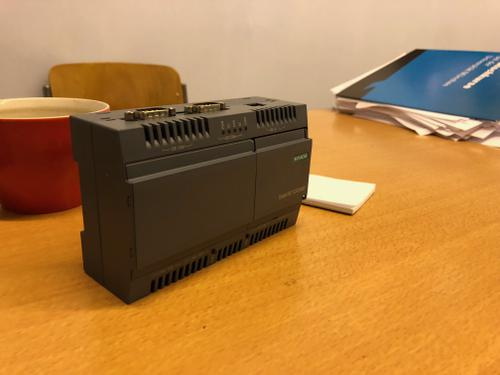device: (69, 96, 312, 304)
